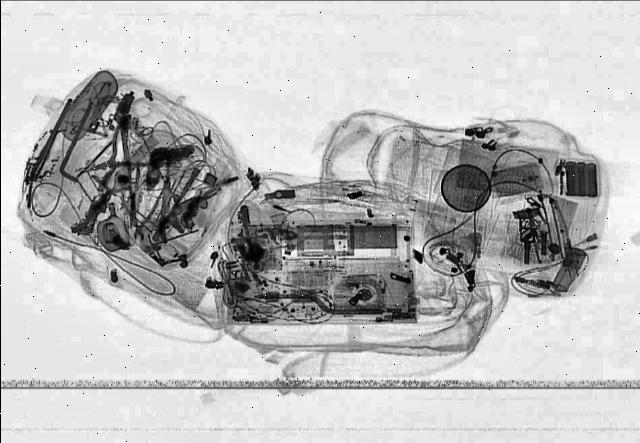Pliers: (113, 171, 167, 243)
